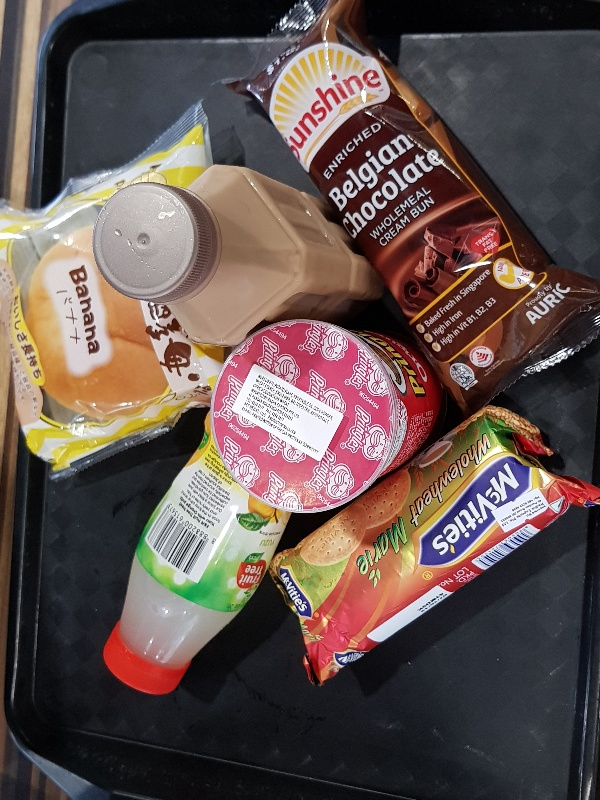Dayplus Banana: (2, 103, 226, 471)
Fruit Tree Yuzu Mixed Juice Drink: (103, 411, 292, 695)
McVitie's Wholewheat Marie: (269, 405, 600, 687)
Mocha: (95, 163, 383, 345)
Pringles Original: (212, 318, 444, 514)
Sunshine Belgium Chocolate Wholemeal Cream Bun: (217, 1, 600, 411)
